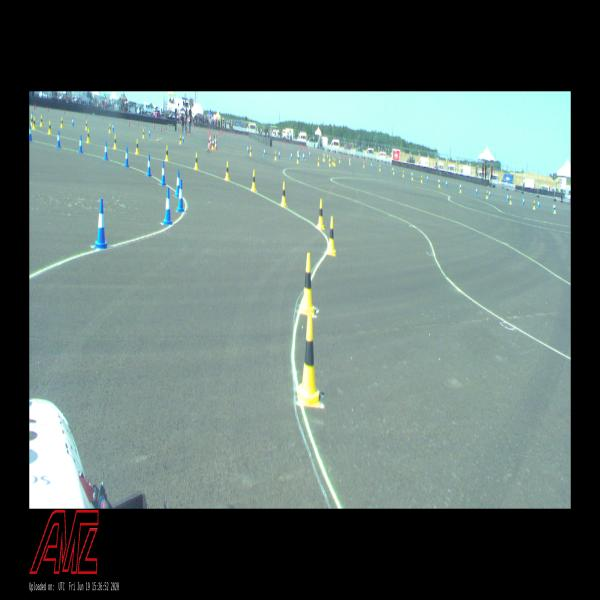blue_cone: (94, 198, 108, 249), (163, 187, 172, 226), (177, 179, 184, 212), (145, 154, 152, 177), (175, 169, 180, 197), (161, 161, 166, 185), (103, 142, 109, 160), (124, 147, 129, 167), (56, 130, 61, 148), (78, 135, 83, 153), (29, 124, 33, 141), (522, 196, 525, 206), (148, 129, 151, 138), (263, 148, 266, 157), (537, 200, 540, 209), (506, 193, 509, 202), (475, 187, 478, 195), (445, 180, 448, 188), (488, 189, 491, 197), (458, 183, 461, 191), (112, 122, 114, 132), (72, 117, 74, 126), (290, 151, 292, 160), (552, 203, 554, 212), (303, 153, 305, 161), (247, 145, 249, 153), (182, 134, 184, 142), (278, 150, 280, 158), (426, 175, 428, 182), (391, 166, 393, 173), (298, 150, 299, 160), (31, 112, 33, 116), (371, 162, 372, 169)
large_orange_cone: (209, 134, 211, 150), (215, 136, 217, 150), (210, 133, 212, 147)
yellow_cone: (298, 312, 319, 402), (300, 253, 315, 314), (327, 216, 336, 256), (317, 199, 324, 229), (280, 181, 286, 206), (251, 170, 256, 191), (225, 161, 230, 181), (164, 145, 169, 162), (194, 152, 199, 169), (135, 138, 139, 155), (86, 128, 90, 144), (113, 134, 117, 149), (48, 120, 52, 134), (108, 123, 112, 134), (60, 117, 64, 128), (33, 116, 36, 130), (532, 200, 536, 210), (179, 134, 182, 145), (30, 115, 33, 126), (249, 146, 252, 157), (85, 120, 88, 130), (274, 151, 277, 161), (509, 195, 512, 204), (40, 115, 42, 127), (420, 175, 423, 183), (459, 185, 462, 193), (486, 189, 488, 200), (318, 157, 320, 167), (142, 129, 144, 138), (329, 158, 331, 167), (554, 204, 556, 213), (332, 157, 334, 165), (379, 164, 381, 172), (402, 170, 404, 178), (323, 154, 325, 162), (438, 180, 440, 188), (297, 156, 299, 164), (334, 158, 336, 166), (363, 161, 365, 168), (349, 159, 351, 165), (212, 140, 213, 150), (329, 154, 330, 162), (393, 167, 394, 175), (412, 173, 413, 180), (339, 156, 340, 163)
